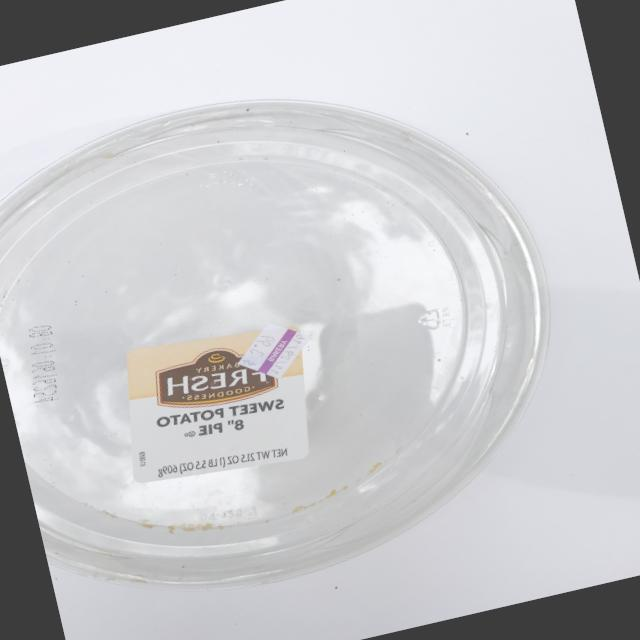Plastic: (0, 27, 617, 637)
